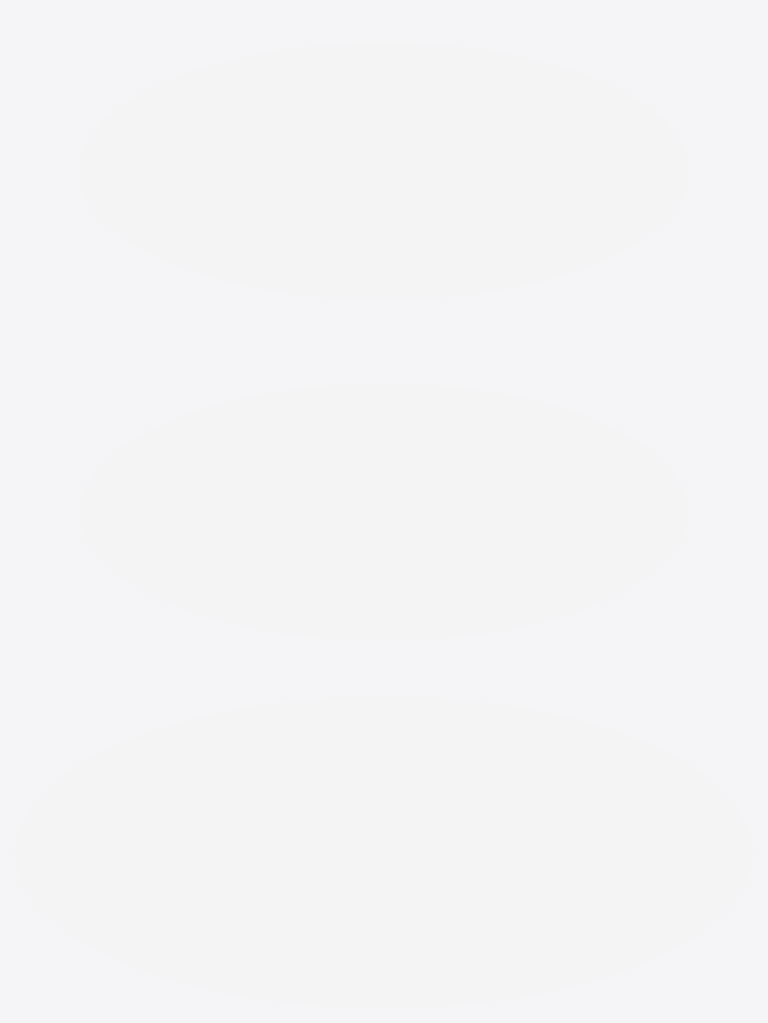
The model's file is seat.glb.
3 renders of one model, top to bottom at view 1: azimuth 30°, elevation 25°; view 2: azimuth 150°, elevation 25°; view 3: azimuth 270°, elevation 25°, orthographic. The views are drawn at different scales.
Visible parts, largest first — view 1: ring, shadow; view 2: ring, shadow; view 3: ring, shadow.
Boxes of the visible parts, x1=… form: ring: x1=78, y1=42, x2=689, y2=300; shadow: x1=252, y1=115, x2=515, y2=225; ring: x1=78, y1=383, x2=689, y2=641; shadow: x1=252, y1=456, x2=515, y2=566; ring: x1=14, y1=696, x2=753, y2=1008; shadow: x1=230, y1=786, x2=537, y2=916.
Size of the model in its own units: 1.24 by 0.002 by 1.24.
2 materials, 2 textured.
